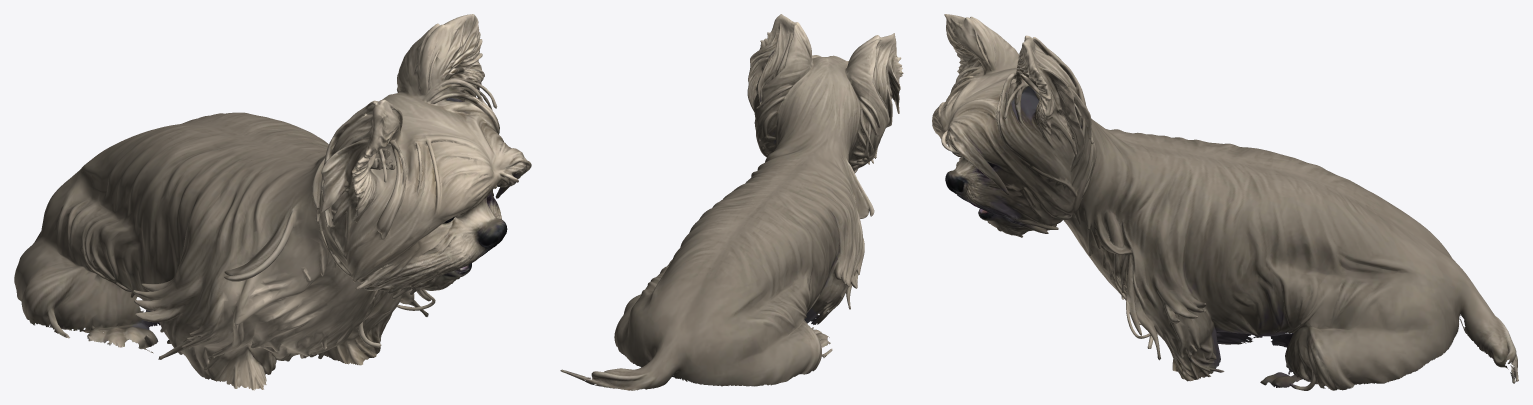
The model's file is shorkie-tripo.glb.
3 views of the same model, side by side, from view 1: azimuth 30°, elevation 25°; view 2: azimuth 150°, elevation 25°; view 3: azimuth 270°, elevation 25° (orthographic). The views are drawn at different scales.
Visible parts, largest first — view 1: shorkie; view 2: shorkie; view 3: shorkie.
Part boxes in pixels (x1,y1,x2,y2): shorkie: [14, 14, 531, 390]; shorkie: [560, 14, 903, 390]; shorkie: [932, 14, 1518, 390].
Bounding box in the file's own units: 0.4084 × 0.4955 × 0.7833.
Materials: 1 (1 with a texture image).
